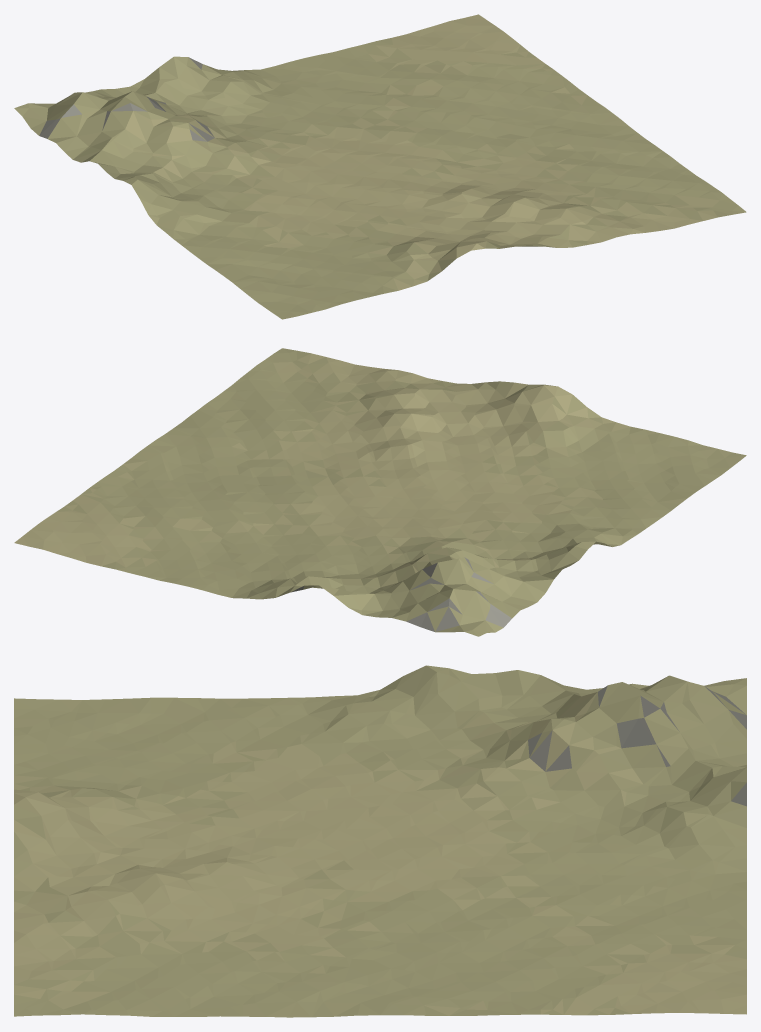
The model's file is Ground_2_-6.glb.
3 renders of one model, top to bottom at view 1: azimuth 30°, elevation 25°; view 2: azimuth 150°, elevation 25°; view 3: azimuth 270°, elevation 25°, orthographic. The views are drawn at different scales.
Visible parts, largest first — view 1: Ground_2_-6; view 2: Ground_2_-6; view 3: Ground_2_-6.
Part boxes in pixels (<box>): Ground_2_-6: <box>14,14,746,319</box>; Ground_2_-6: <box>14,348,746,636</box>; Ground_2_-6: <box>14,665,746,1017</box>.
Size of the model in its own units: 768 by 80.15 by 768.
